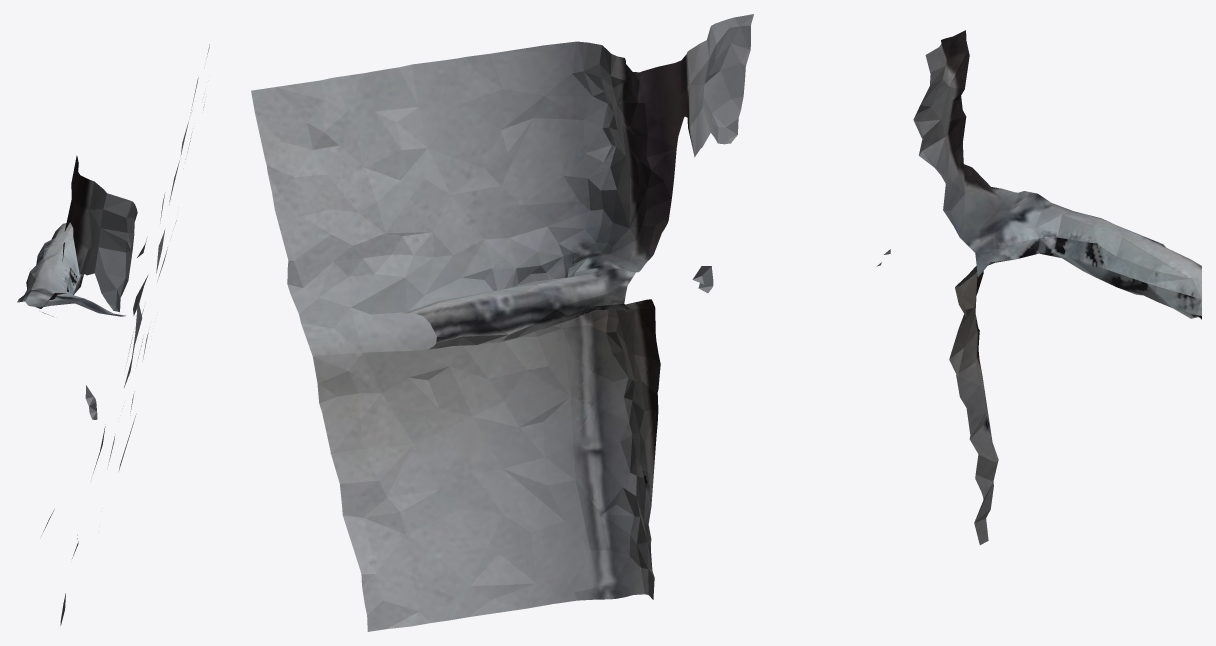
The picture shows the model from 3 angles, left to right: view 1: azimuth 30°, elevation 25°; view 2: azimuth 150°, elevation 25°; view 3: azimuth 270°, elevation 25°; orthographic projection. The views are drawn at different scales.
Size of the model in its own units: 0.5103 by 0.8374 by 0.6048.
2 materials, 2 textured.
